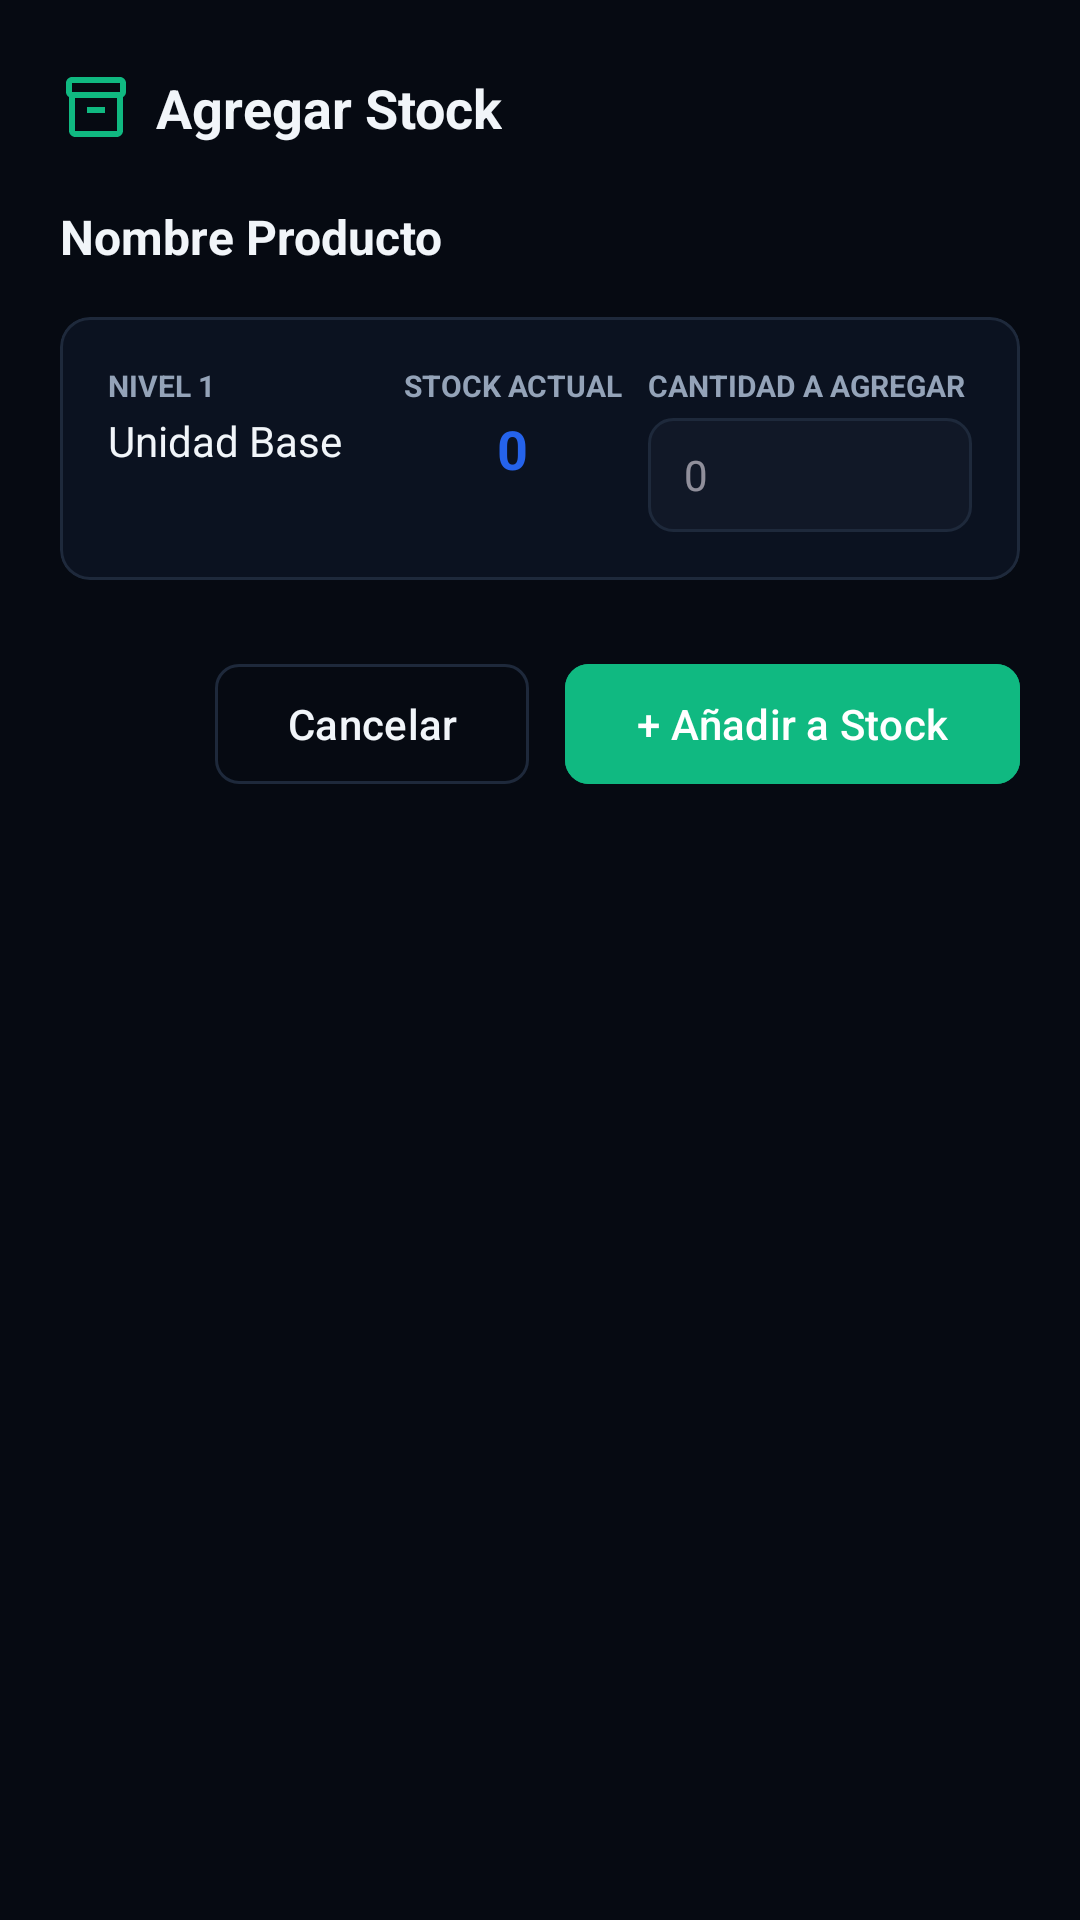

Icons on this 1080 x 1920 Android screen, each with the point to tap as [x,y]:
box: [96,107]
